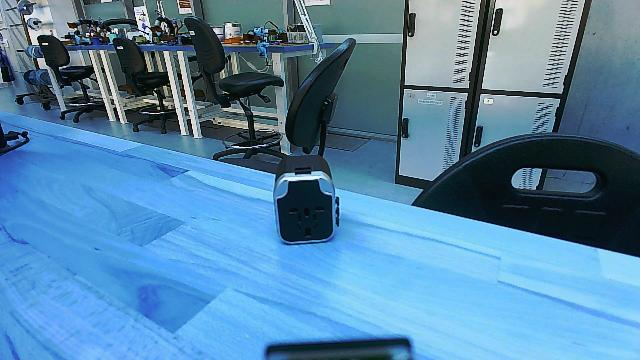adapter: (272, 150, 344, 250)
